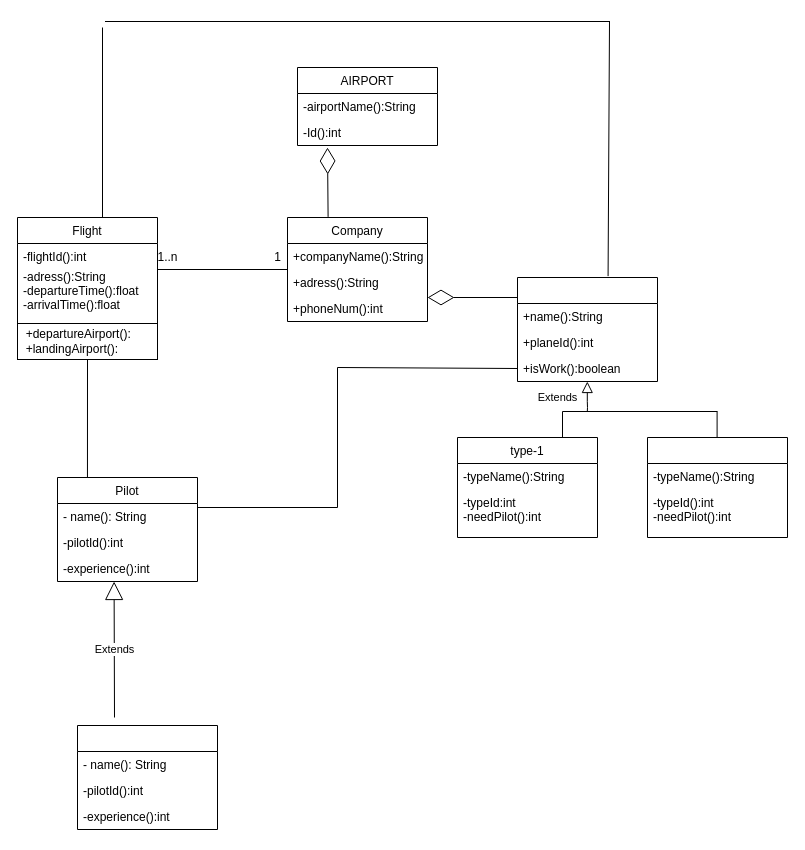
Image size: 805x850. Some labels were removed from this diagram. Each missing label, with the box of its shape:
Airplane: (516, 276, 658, 382)
CO-Pilot: (76, 724, 218, 830)
type-2: (646, 436, 788, 538)
